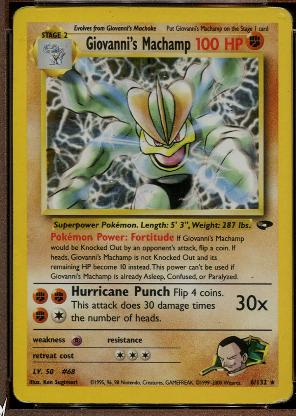Card: (10, 6, 294, 406)
Corner Wear: (269, 5, 293, 25), (11, 6, 37, 20), (270, 388, 292, 404), (11, 393, 31, 405)
